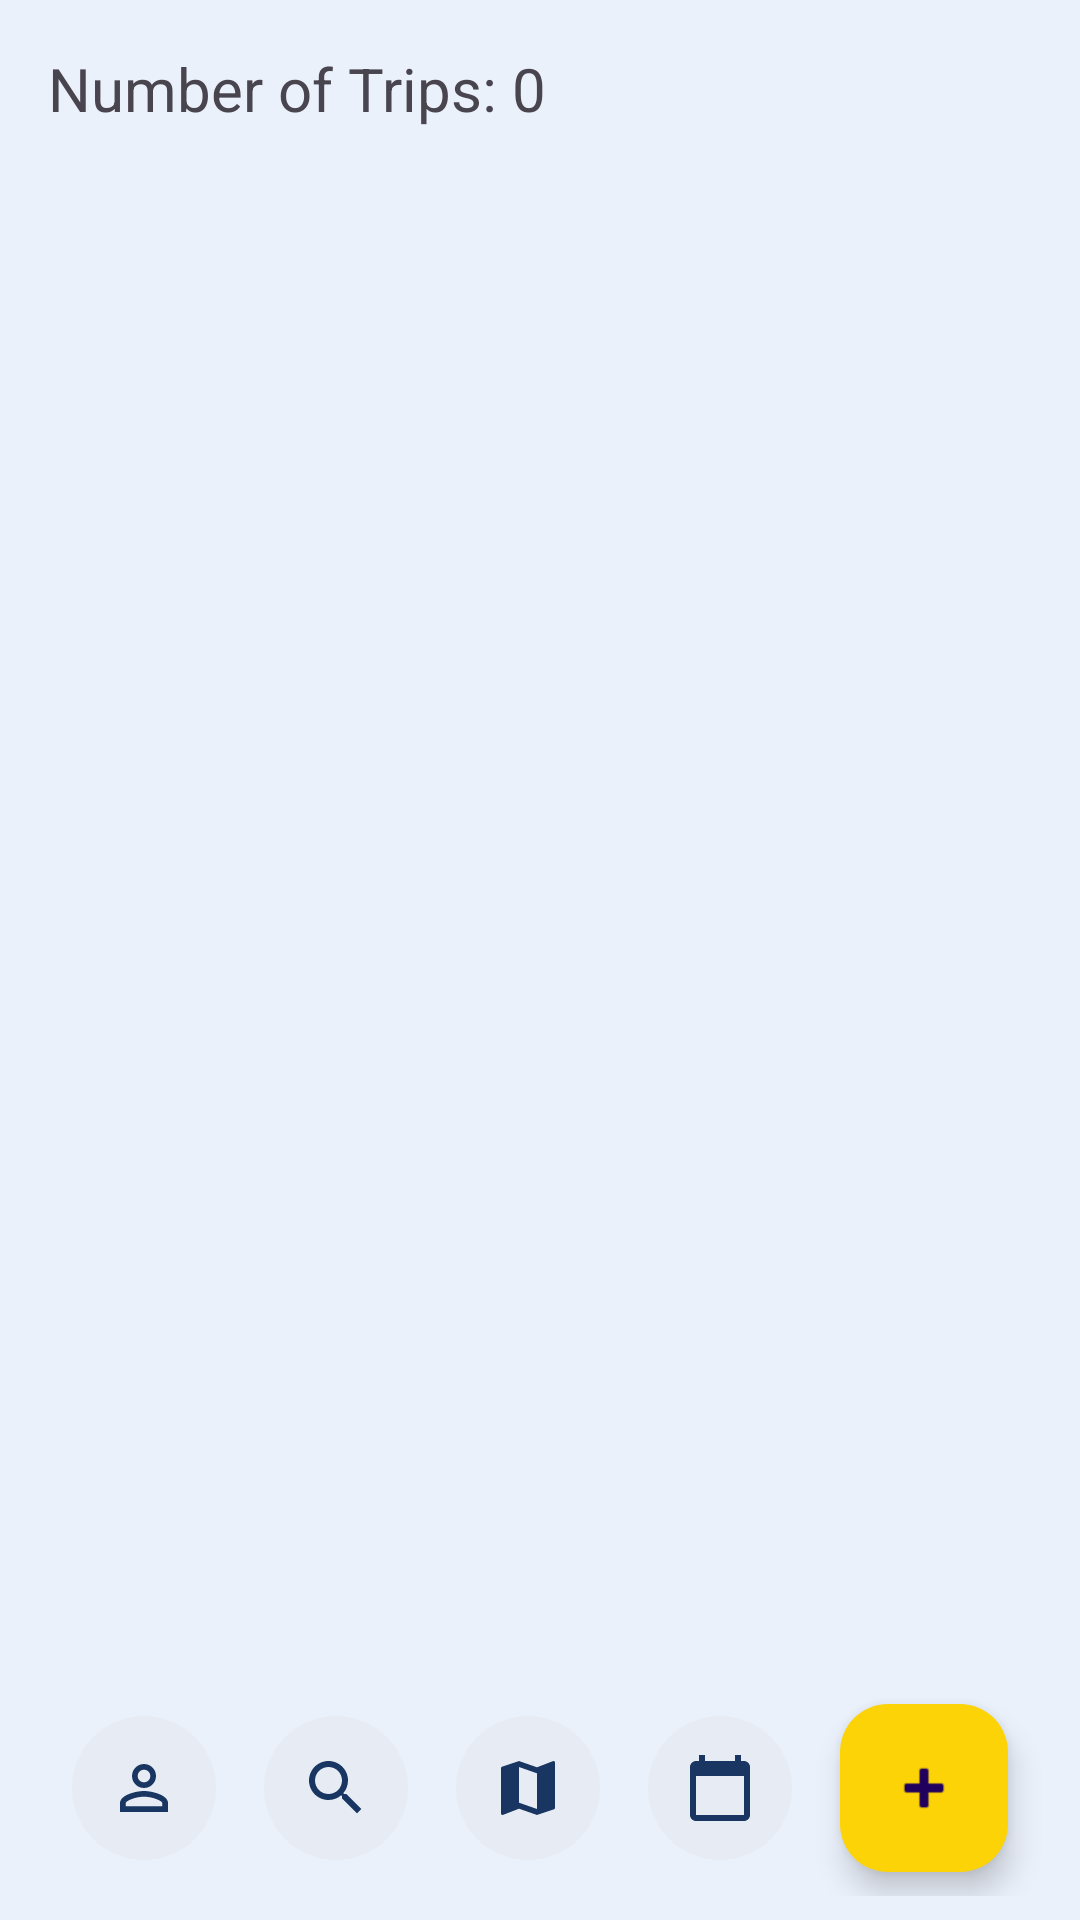

Icons on this 1080 × 1920 Android screen, each with the point to tap as (x=x, y=y):
Add Trip: (x=924, y=1788)
Calendar: (x=720, y=1788)
Explore: (x=335, y=1787)
Map: (x=528, y=1788)
Profile: (x=144, y=1788)
